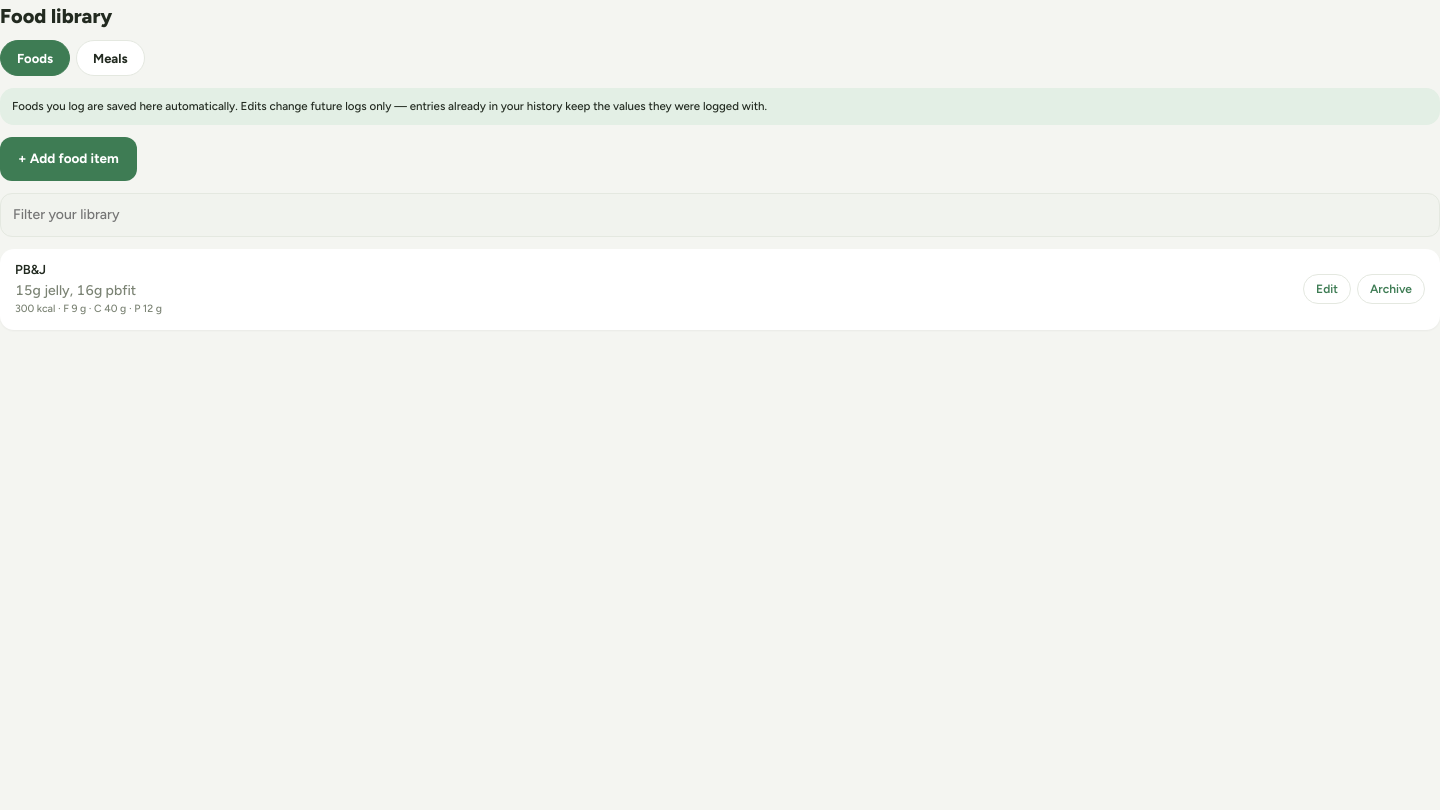
Test: FoodsScreen save as new food › forks a saved food into a new one and leaves the original alone
The width and height of the screenshot is (1440, 810).
Step 1. Click the button "Edit" → point(1327, 289), box x1=1303 y1=274 x2=1351 y2=304
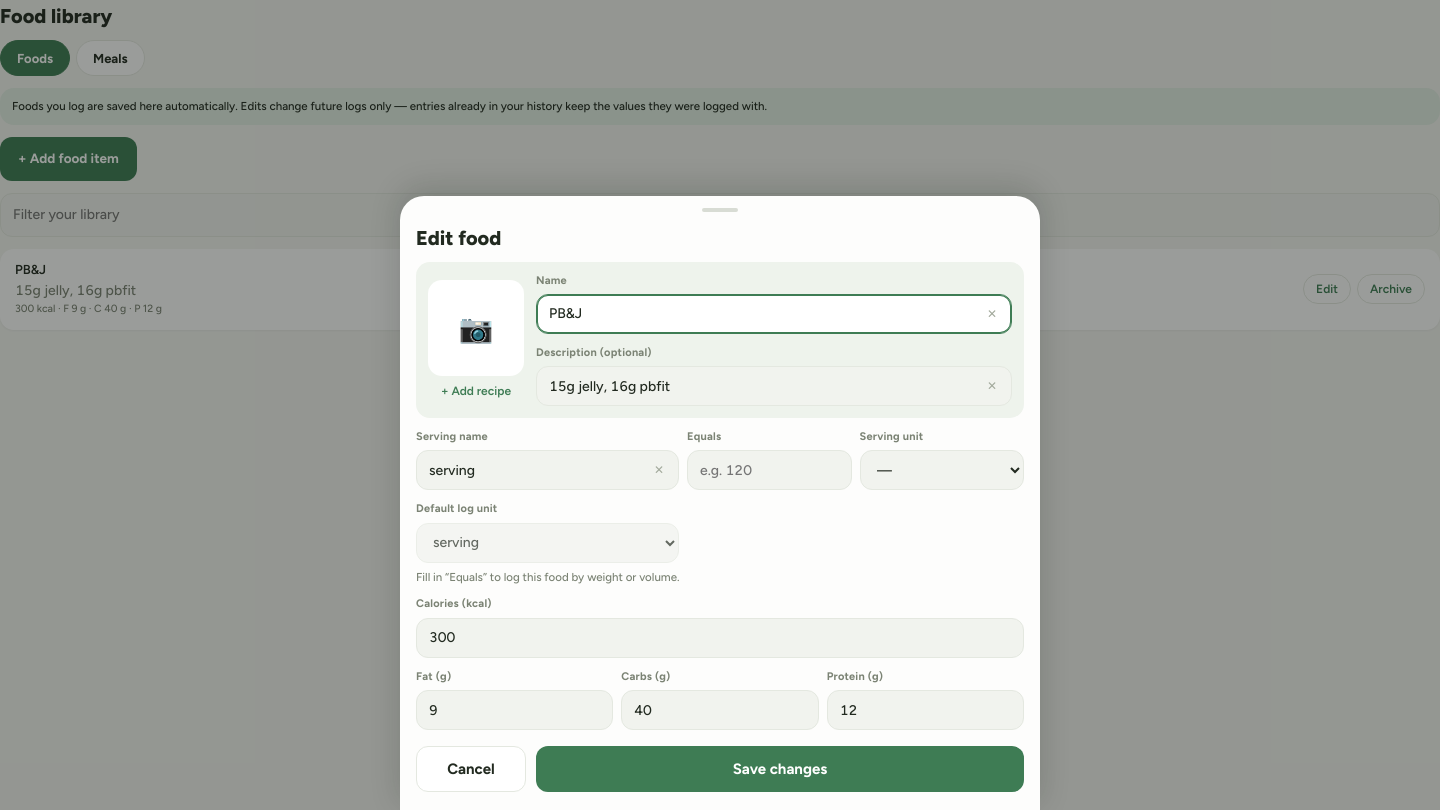
Step 2. Replace the text in the field labelled "Name" with "PB&J (crunchy)" → point(774, 314), box x1=536 y1=294 x2=1012 y2=334
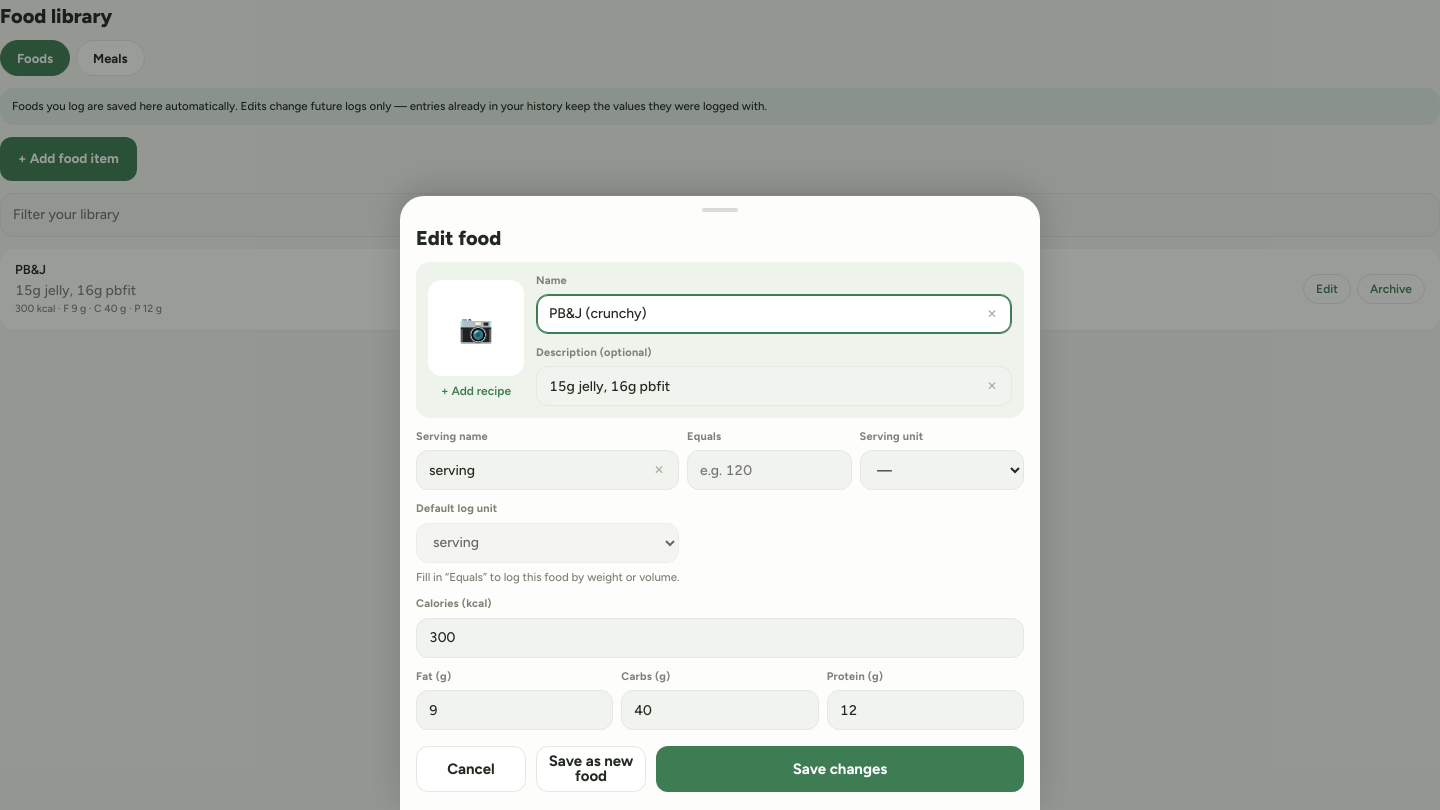
Step 3. Replace the text in the field labelled "Calories (kcal)" with "420" → point(720, 638), box x1=416 y1=618 x2=1024 y2=658
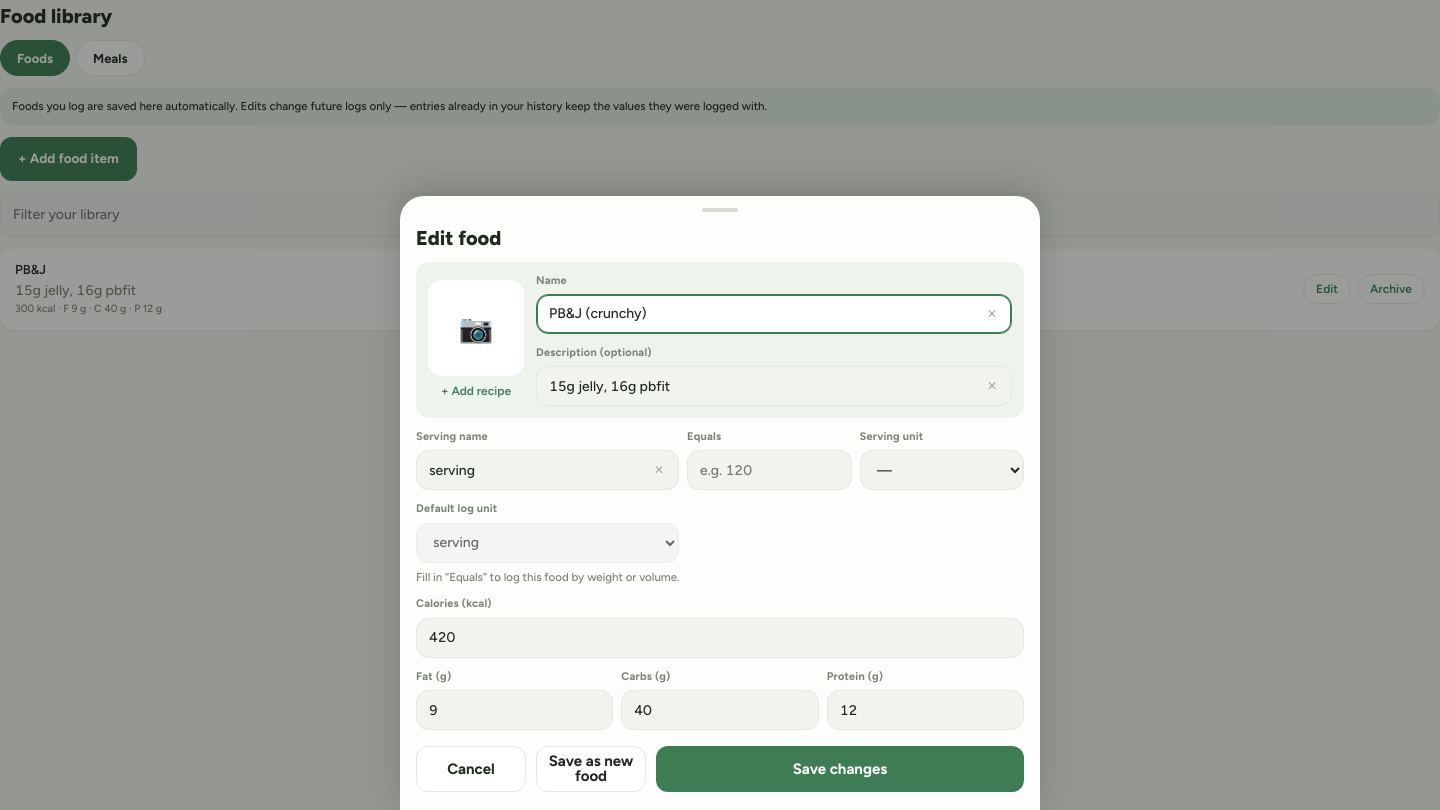
Step 4. Click the button "Save as new food" → point(591, 769), box x1=536 y1=746 x2=646 y2=792
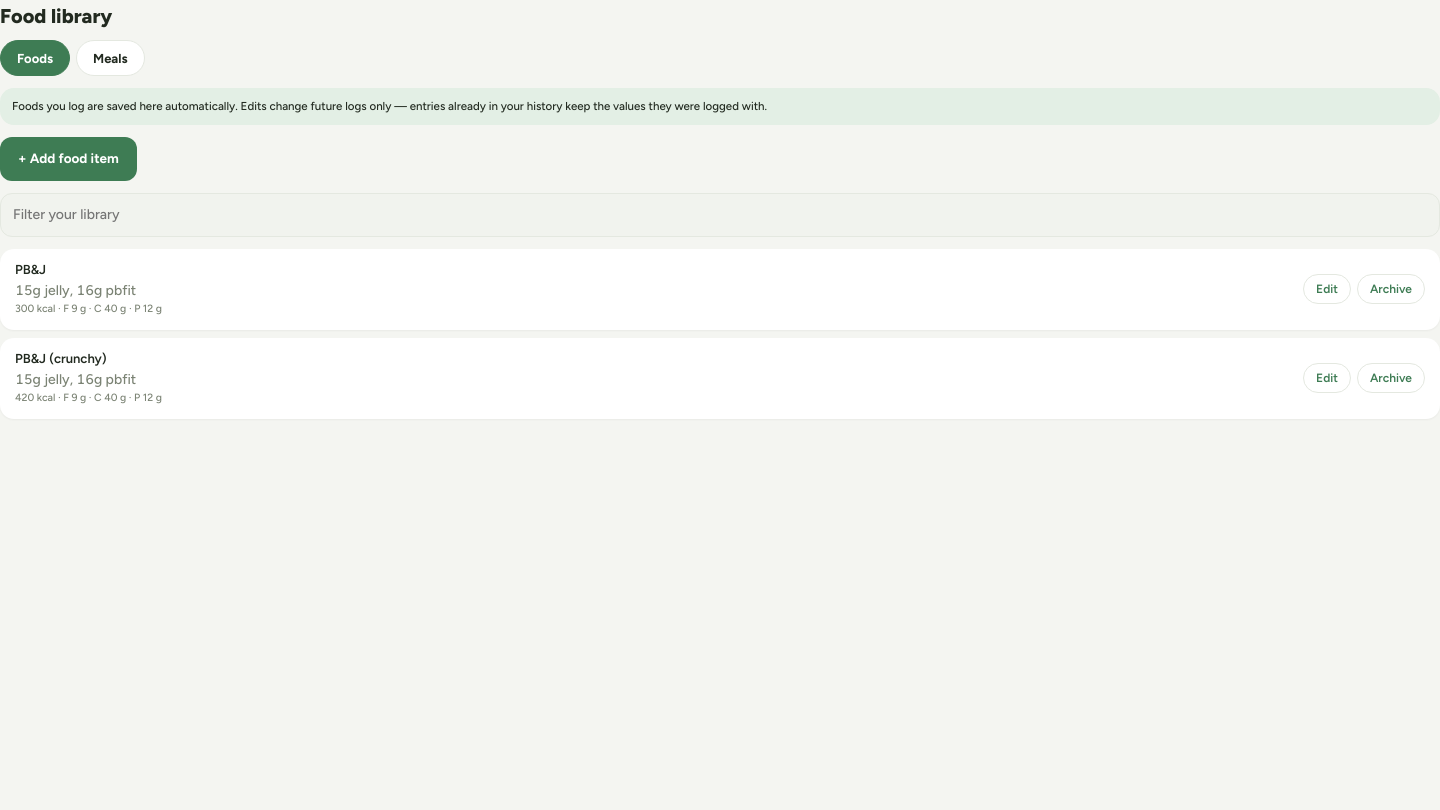
Expected: the text "PB&J" is shown, x1=15 y1=262 x2=46 y2=279
Result: the text "PB&J (crunchy)" is shown at x1=15 y1=351 x2=107 y2=368
